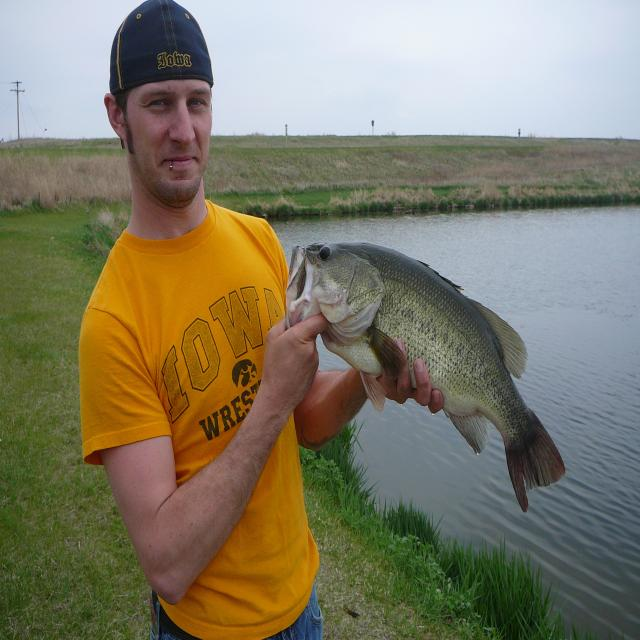Bass - Largemouth: (286, 243, 564, 511)
